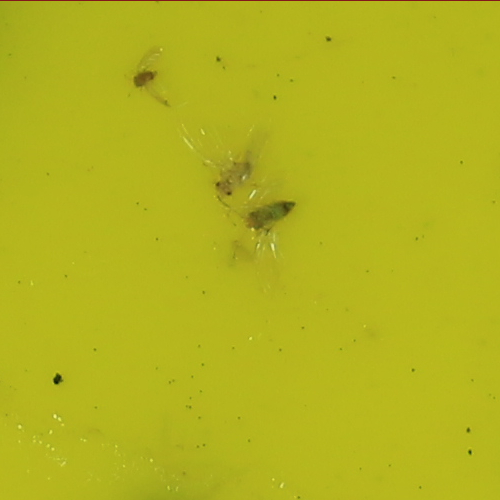Glycaspis: (244, 198, 303, 230), (212, 164, 253, 195)
Platyobria: (130, 69, 162, 88)
